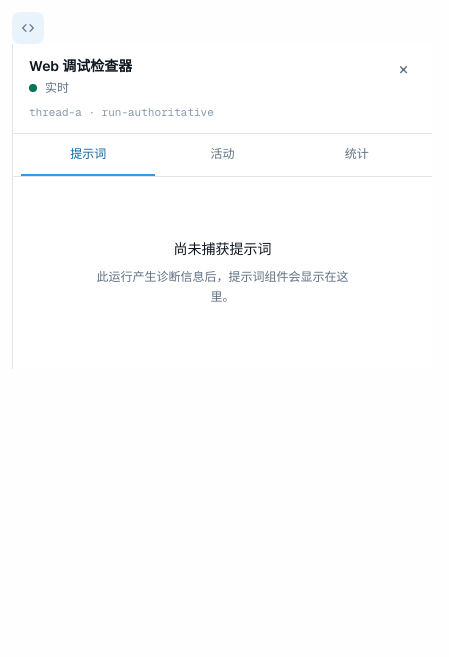
authoritative activity replacement keeps known summaries localized
Click the tab with test id "inspector-tab-activity".
click(222, 154)  # box [155,134,290,176]
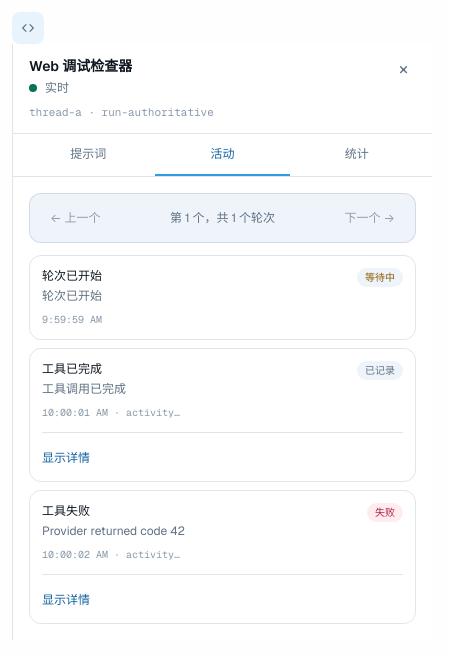
Now the element with test id "inspector-activity-content" shows "轮次已开始", box [42,268,102,284]
Now the element with test id "inspector-activity-content" shows "工具调用已完成", box [42,380,126,396]
Now the element with test id "inspector-activity-content" shows "Provider returned code 42", box [42,522,185,538]
